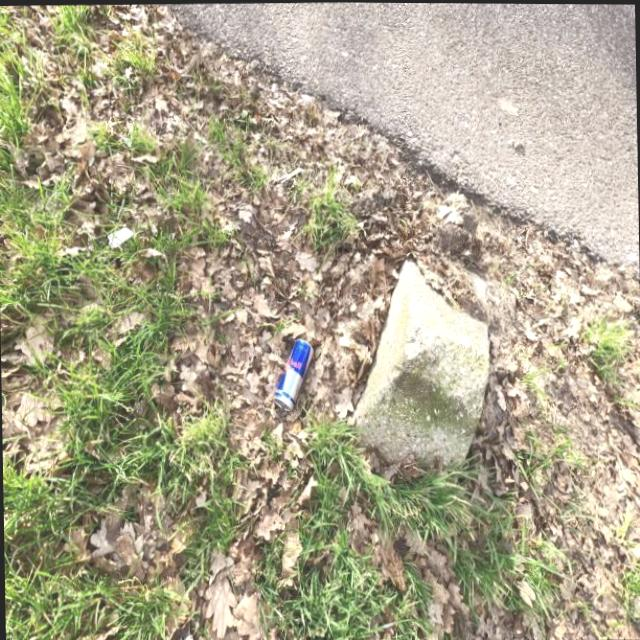Can-Metal: (271, 336, 315, 413)
